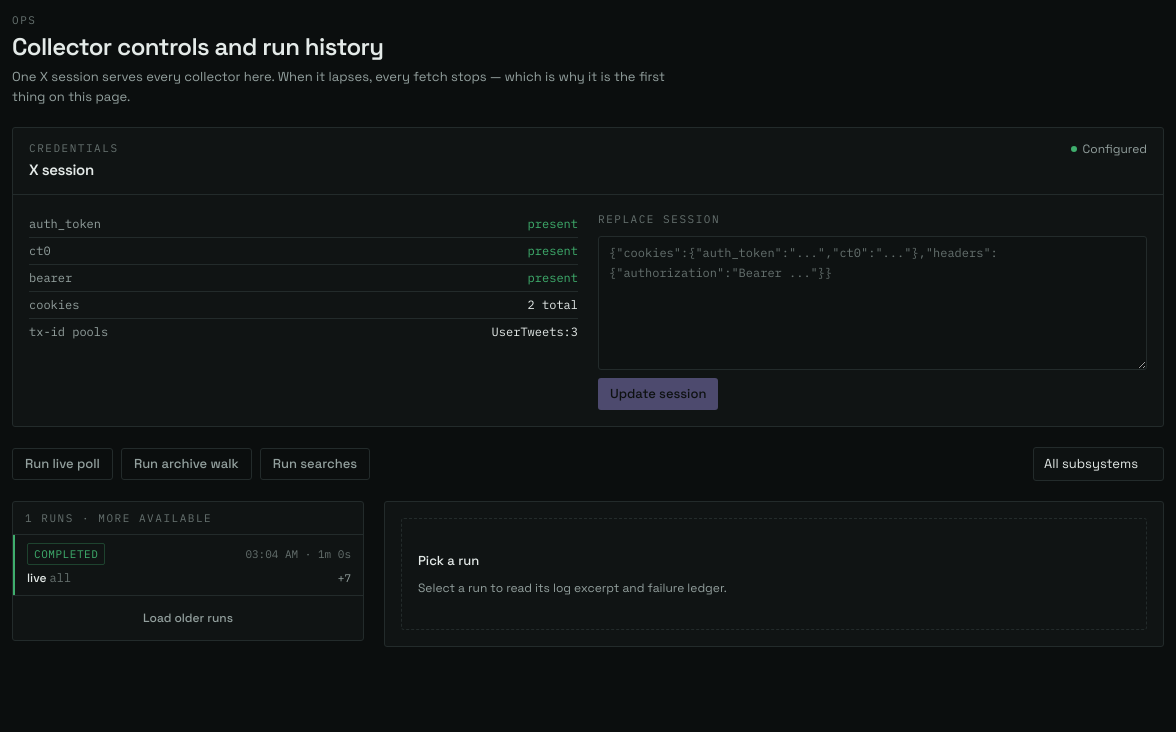
it: polling resilience › keeps older pages when the poll refreshes the newest one
Expected: the text "1 runs · more available" is shown, x1=25 y1=510 x2=212 y2=526
Click the button "Load older runs" at (188, 618), box x1=21 y1=604 x2=355 y2=632
Wait 10000 ms
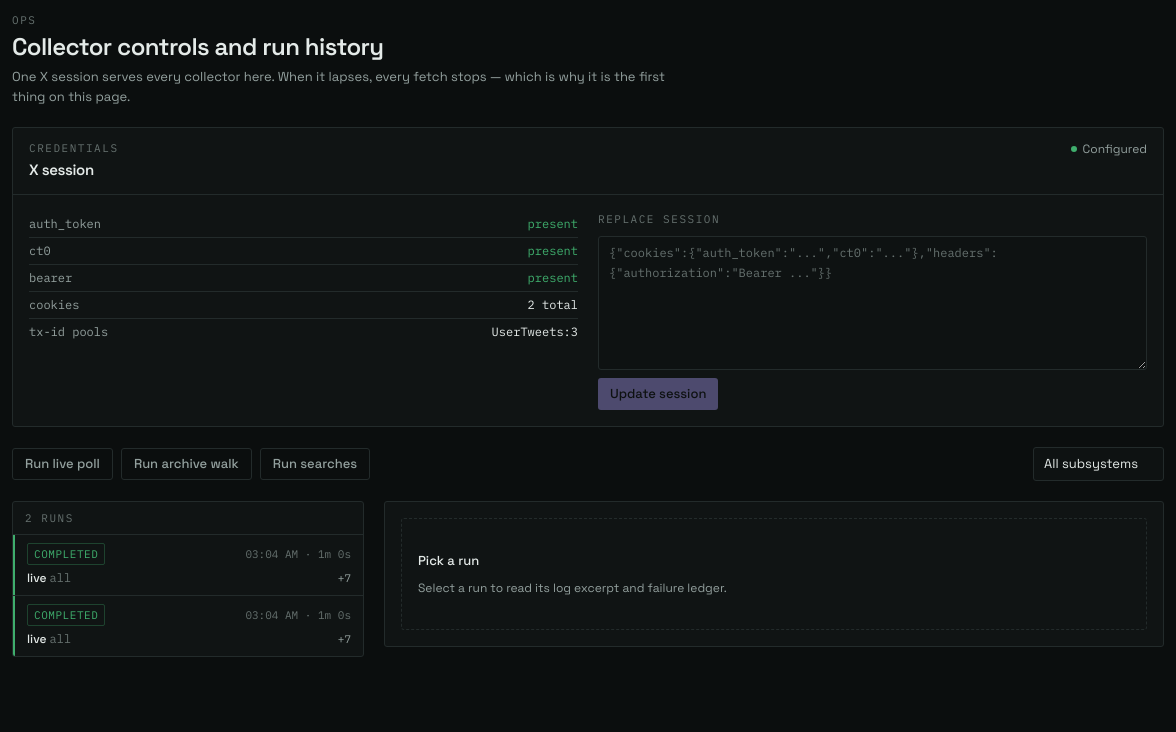
Expected: the text "2 runs" is shown, x1=25 y1=510 x2=74 y2=526
